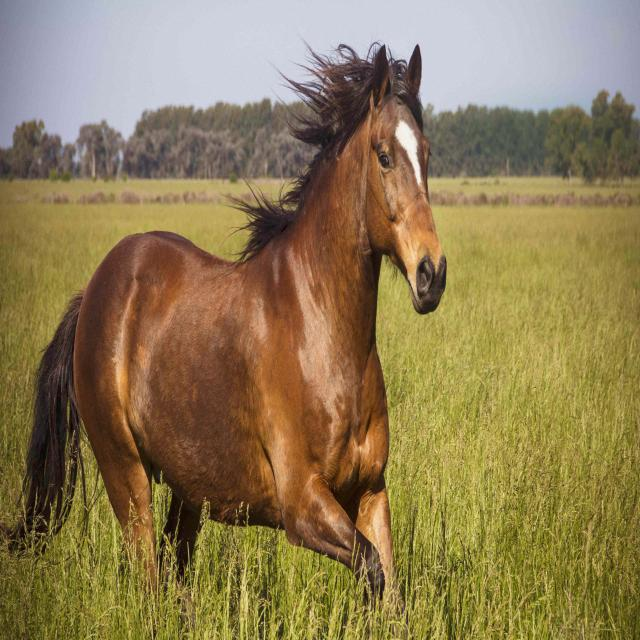Horse: (12, 29, 446, 586)
